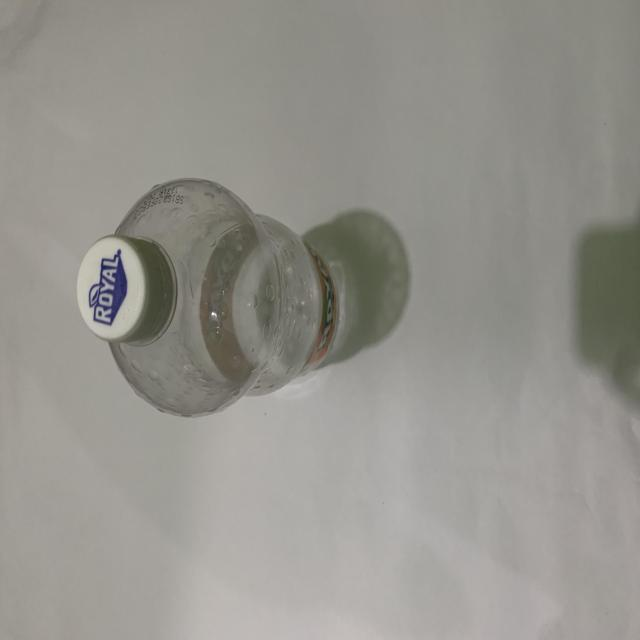bottle: (69, 160, 354, 442)
